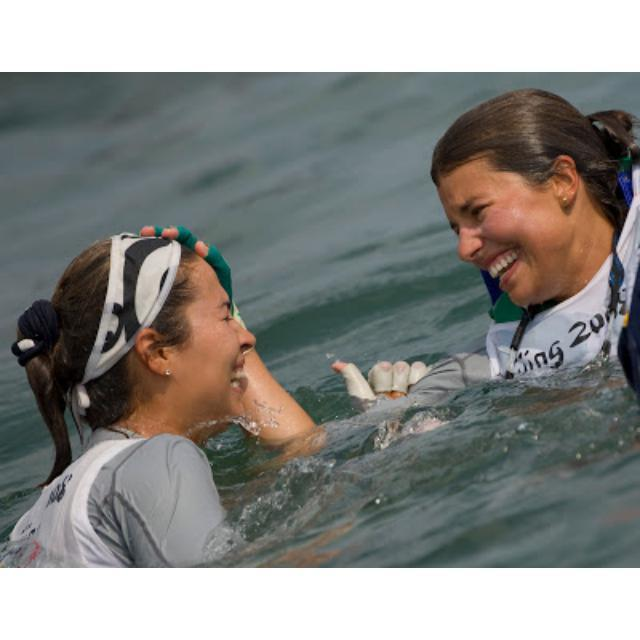human: (14, 219, 257, 567), (422, 91, 639, 390)
